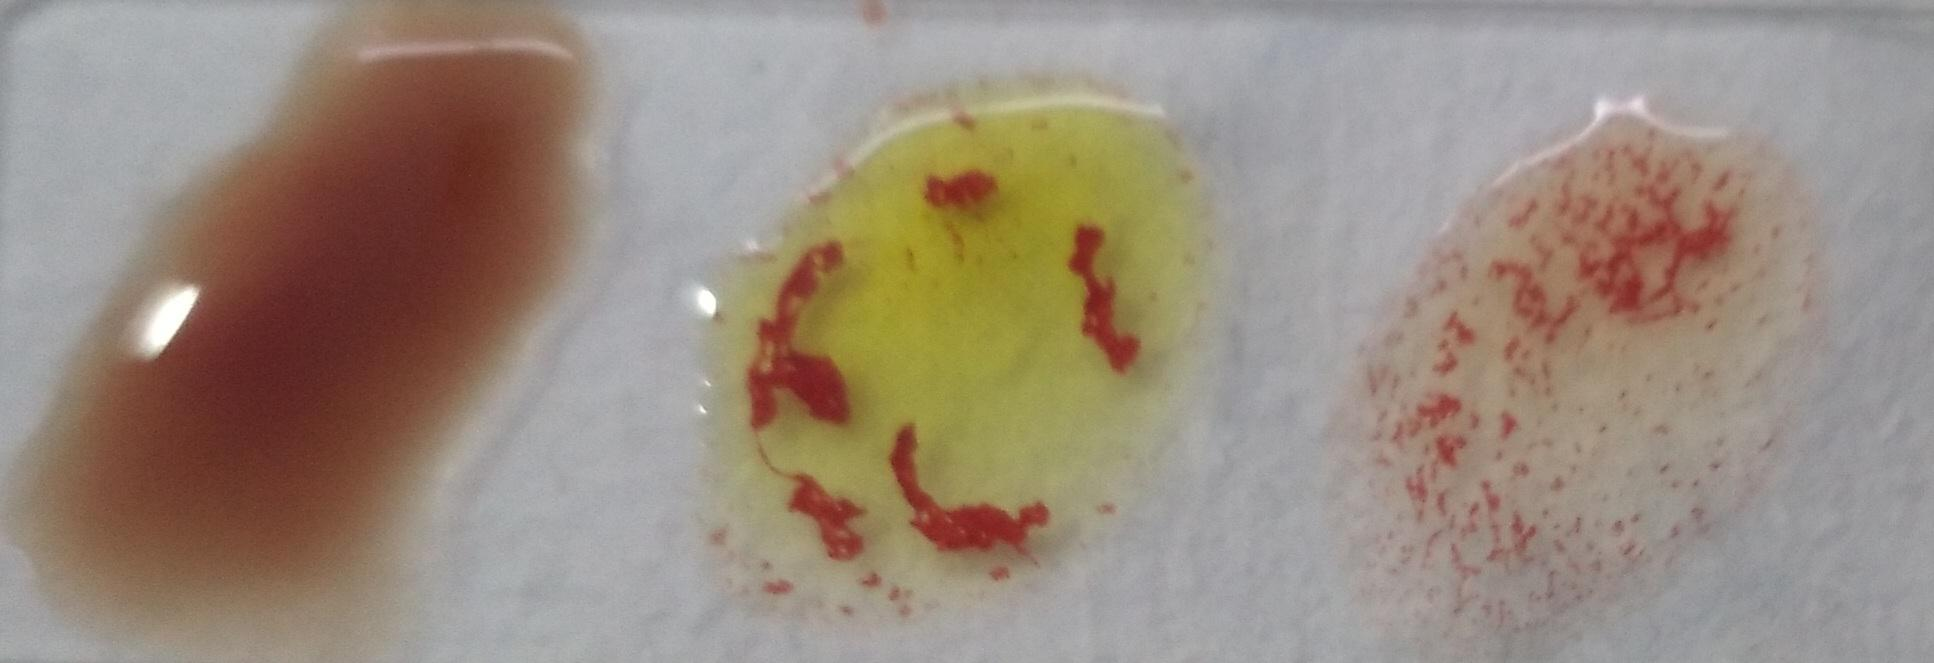B: (707, 67, 1195, 637)
D: (1386, 79, 1822, 624)
